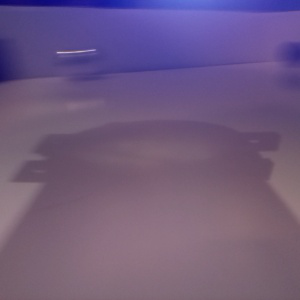alive_ball: (52, 49, 106, 80)
dead_ball: (276, 43, 300, 66)
